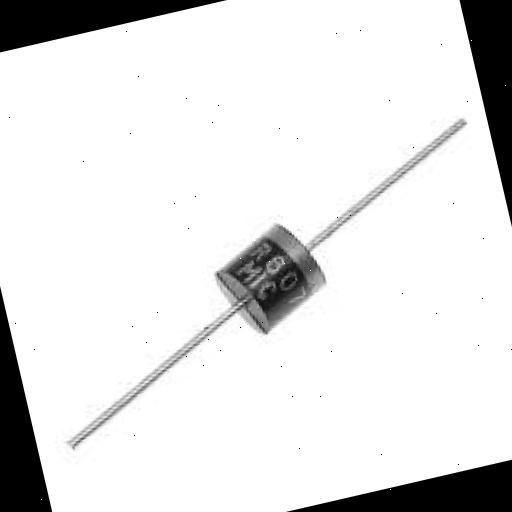DIODE: (13, 113, 512, 452)
